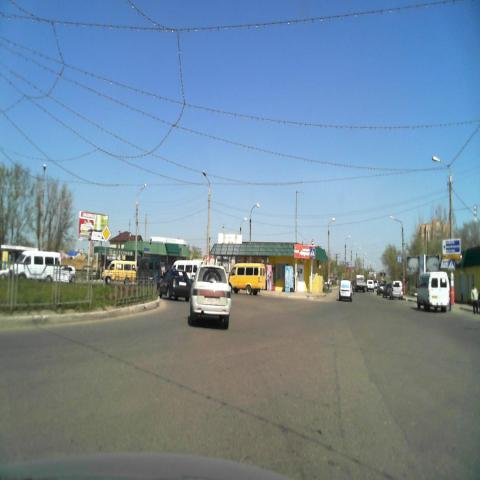1_2: (310, 239, 316, 247)
2_1: (101, 222, 112, 243)
5_19_1: (310, 248, 316, 259)
